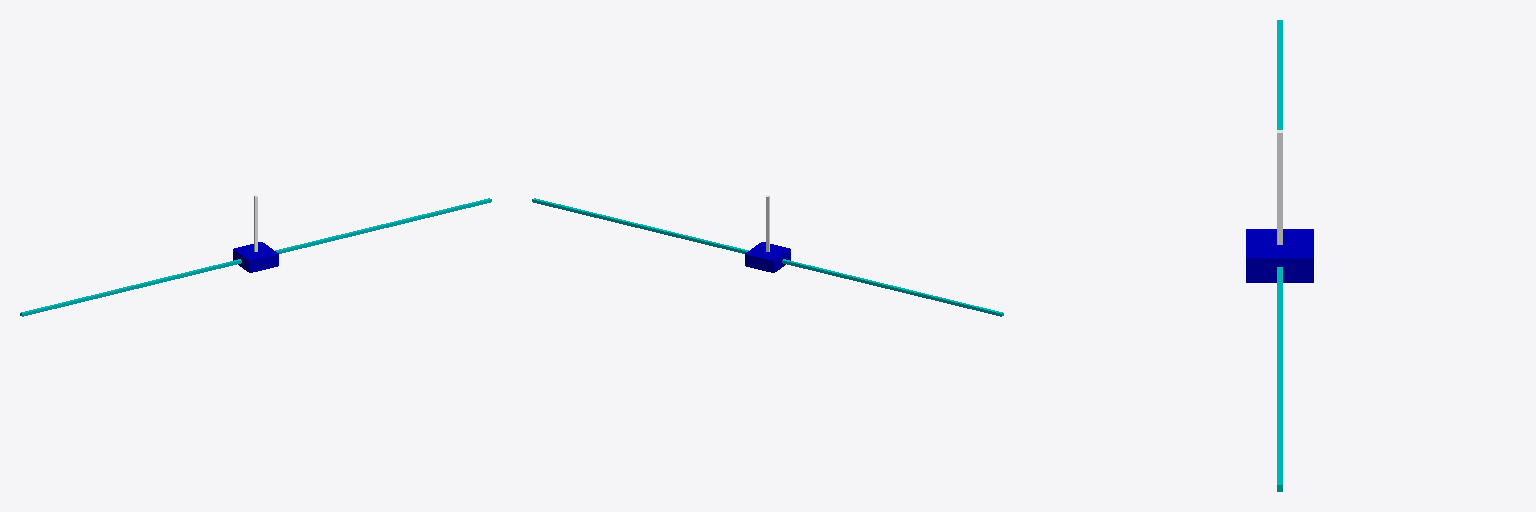
The robot description file, URDF, robot "physics":
<?xml version="1.0"?>
<robot name="physics">

    <link name="slideBar">
    <visual>
      <geometry>
        <box size="8 0.05 0.05"/>
      </geometry>
      <origin xyz="0 0 0"/>
      <material name="green">
        <color rgba="0 0.8 .8 1"/>
      </material>
    </visual>
    <inertial>
      <mass value="0"/>
      <inertia ixx="1.0" ixy="0.0" ixz="0.0" iyy="1.0" iyz="0.0" izz="1.0"/>
    </inertial>
  </link>

  <link name="cart">
    <visual>
      <geometry>
        <box size="0.5 0.5 0.2"/>
      </geometry>
      <origin xyz="0 0 0"/>
      <material name="blue">
        <color rgba="0 0 .8 1"/>
      </material>
    </visual>
    <collision>
      <geometry>
          <box size="0.5 0.5 0.2"/>
      </geometry>
      <origin xyz="0 0 0"/>
    </collision>
    <inertial>
      <mass value="1"/>
      <inertia ixx="1.0" ixy="0.0" ixz="0.0" iyy="1.0" iyz="0.0" izz="1.0"/>
    </inertial>
  </link>

  <joint name="slider_to_cart" type="prismatic">
    <axis xyz="1 0 0"/>
    <origin xyz="0.0 0.0 0.0"/>
    <parent link="slideBar"/>
    <child link="cart"/>
    <limit effort="1000.0" lower="-4" upper="4" velocity="100"/>
  </joint>

  <link name="pole">
    <visual>
      <geometry>
        <box size="0.05 0.05 1.0"/>	
      </geometry>
      <origin rpy="0 0 0" xyz="0 0 0.5"/>
      <material name="white">
        <color rgba="1 1 1 1"/>
      </material>
    </visual>
    <inertial>
    <origin xyz="0 0 0.5"/>
      <mass value="10"/>
      <inertia ixx="1.0" ixy="0.0" ixz="0.0" iyy="1.0" iyz="0.0" izz="1.0"/>
    </inertial>
     <collision>
      <geometry>
        <box size="0.05 0.05 1.0"/>	
      </geometry>
      <origin rpy="0 0 0" xyz="0 0 0.5"/>
    </collision>
  </link>


  <joint name="cart_to_pole" type="continuous">
    <axis xyz="0 1 0"/>
    <origin xyz="0.0 0.0 0"/>
    <parent link="cart"/>
    <child link="pole"/>
    <limit effort="1000.0" velocity="5"/>
  </joint>
  
</robot>

--- Render facts (derived) ---
3 views of the same robot in one strip: view 1: azimuth 30°, elevation 25°; view 2: azimuth 150°, elevation 25°; view 3: azimuth 270°, elevation 25° (orthographic).
Model physics with 3 links and 2 joints (1 continuous, 1 prismatic), rooted at slideBar, posed every joint at zero.
Links seen in each view (by area): view 1: slideBar, cart; view 2: slideBar, cart; view 3: cart, slideBar, pole.
Link boxes in pixels (x1=…): slideBar: x1=20, y1=198, x2=491, y2=316; cart: x1=233, y1=242, x2=278, y2=272; slideBar: x1=532, y1=198, x2=1003, y2=316; cart: x1=745, y1=242, x2=790, y2=272; cart: x1=1246, y1=229, x2=1313, y2=282; slideBar: x1=1277, y1=20, x2=1282, y2=491; pole: x1=1277, y1=130, x2=1282, y2=244.
Size in the robot's own frame: 8 by 0.5 by 1.1 metres.
Geometry: primitives only (box / cylinder / sphere), no mesh files.
